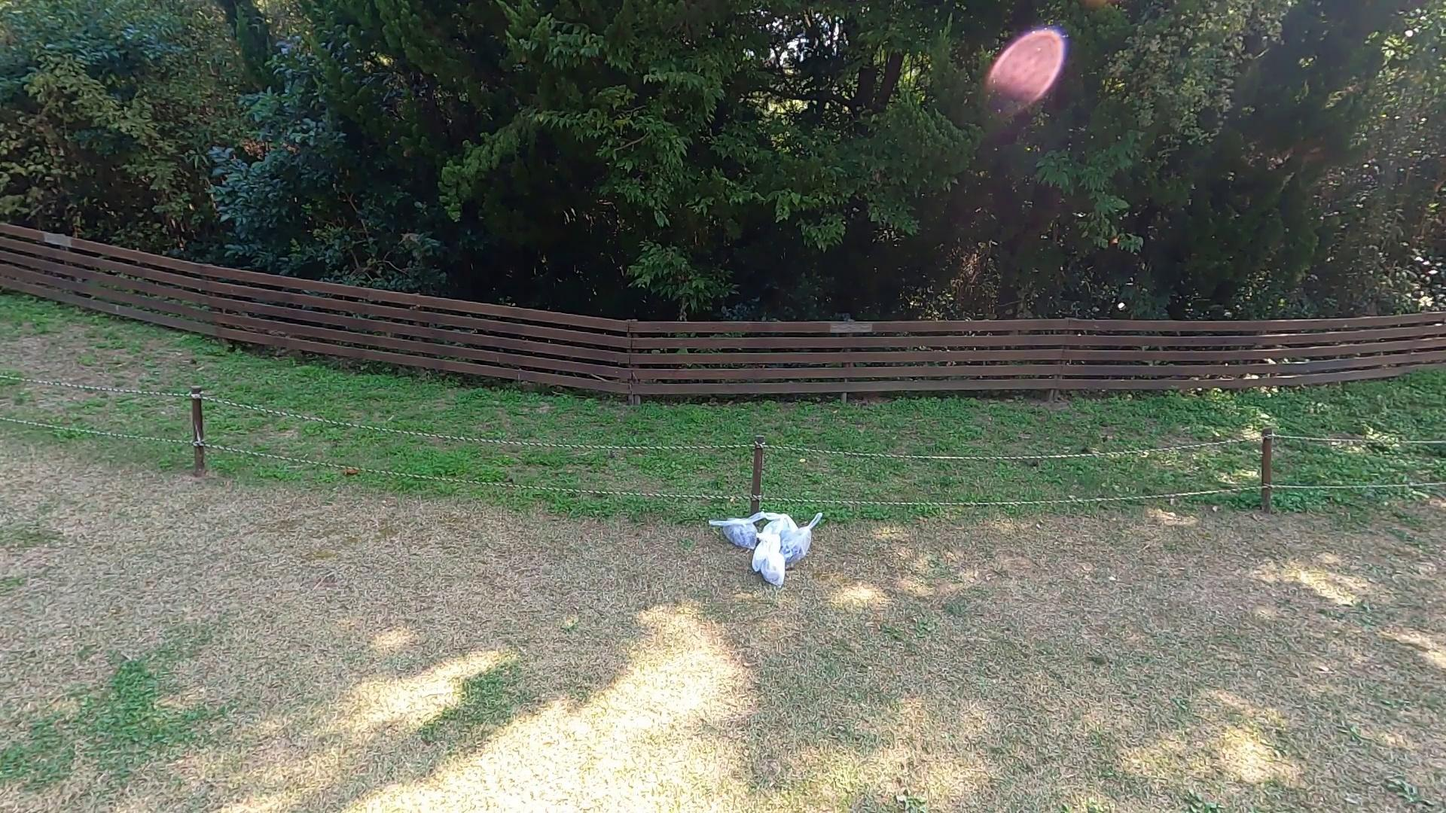trash: (783, 507, 824, 569), (708, 511, 767, 548), (763, 507, 802, 561), (752, 530, 788, 588)
